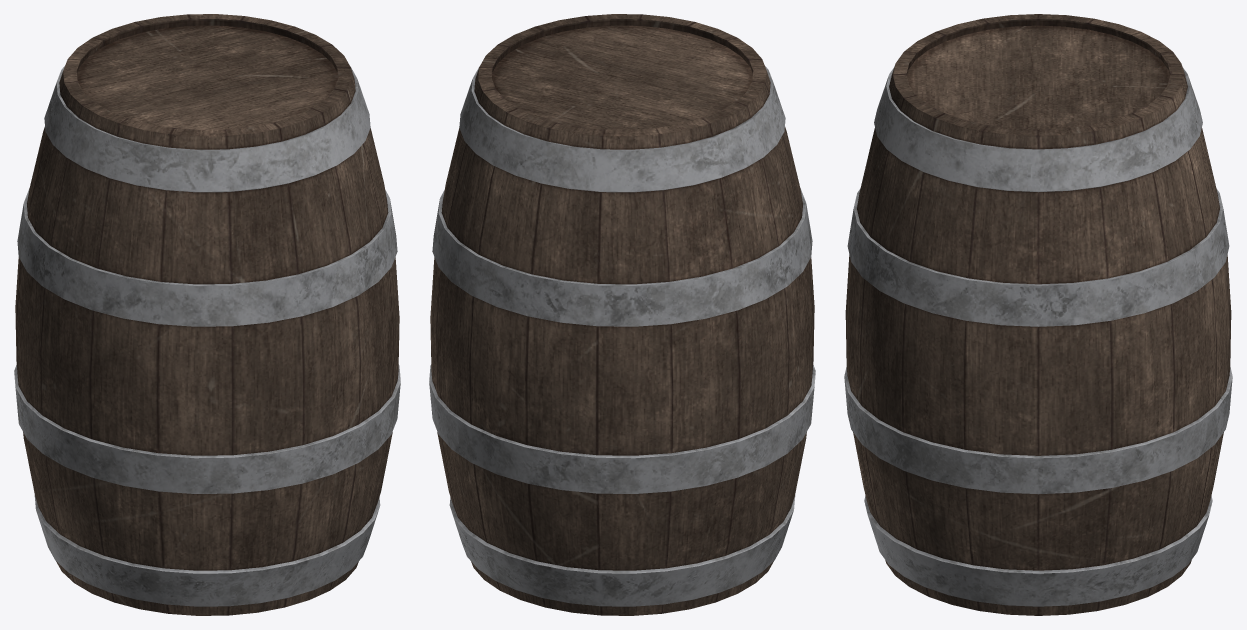
File: barrel.glb
3 views of the same model, side by side, from view 1: azimuth 30°, elevation 25°; view 2: azimuth 150°, elevation 25°; view 3: azimuth 270°, elevation 25° (orthographic).
Parts seen in each view (by area): view 1: Barrel; view 2: Barrel; view 3: Barrel.
Boxes of the visible parts, x1,y1,x2,y2 form: Barrel: (14, 14, 400, 615); Barrel: (429, 14, 815, 615); Barrel: (844, 14, 1232, 615).
Size of the model in its own units: 0.8187 by 1.11 by 0.8205.
Materials: 1 (1 with a texture image).
